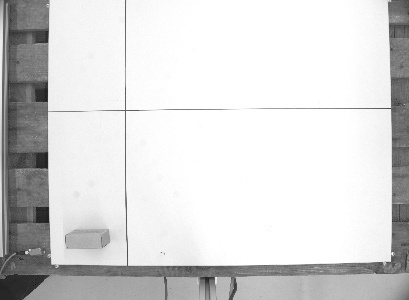b1: (63, 227, 112, 252)
